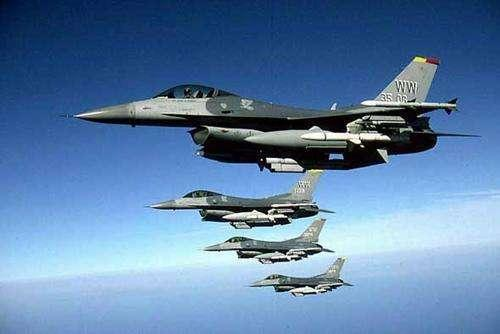airplane: (65, 54, 482, 170), (144, 162, 339, 231), (204, 216, 337, 268), (243, 256, 358, 297)
